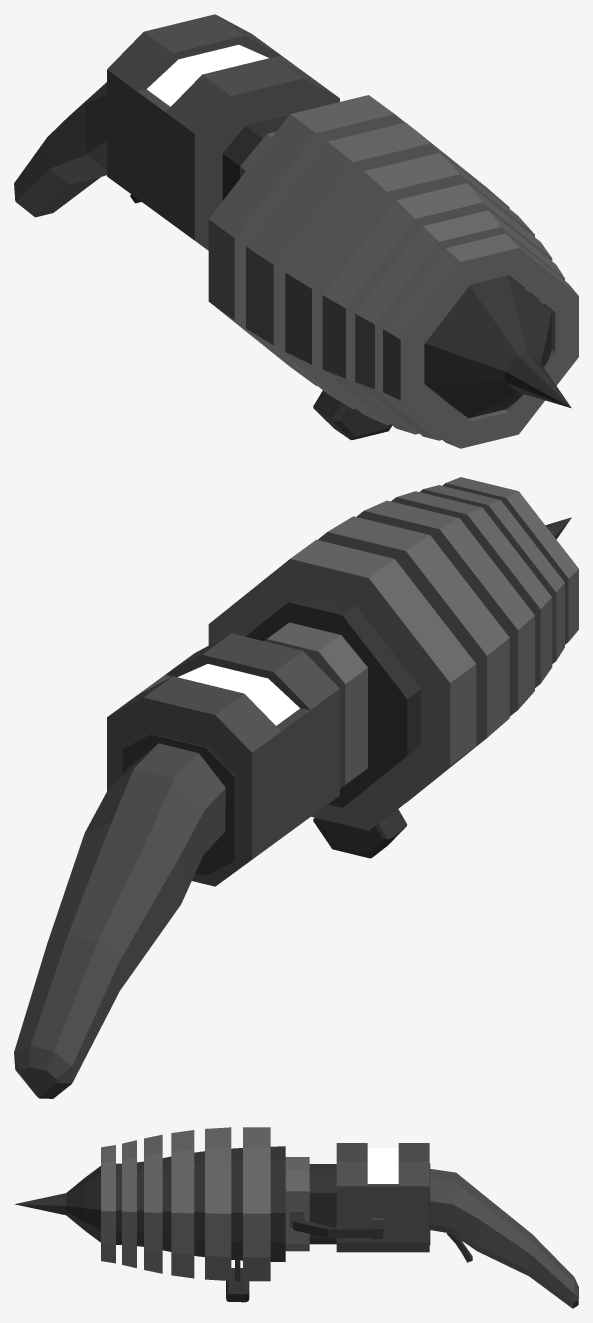
File: Drill.fbx
3 renders of one model, top to bottom at view 1: azimuth 30°, elevation 25°; view 2: azimuth 150°, elevation 25°; view 3: azimuth 270°, elevation 25°, orthographic. The views are drawn at different scales.
Visible parts, largest first — view 1: Drill; view 2: Drill; view 3: Drill.
Part boxes in pixels (<box>): Drill: <box>14,14,578,448</box>; Drill: <box>14,477,578,1098</box>; Drill: <box>14,1127,578,1308</box>.
Bounding box in the file's own units: 21.62 × 27.33 × 82.76.
